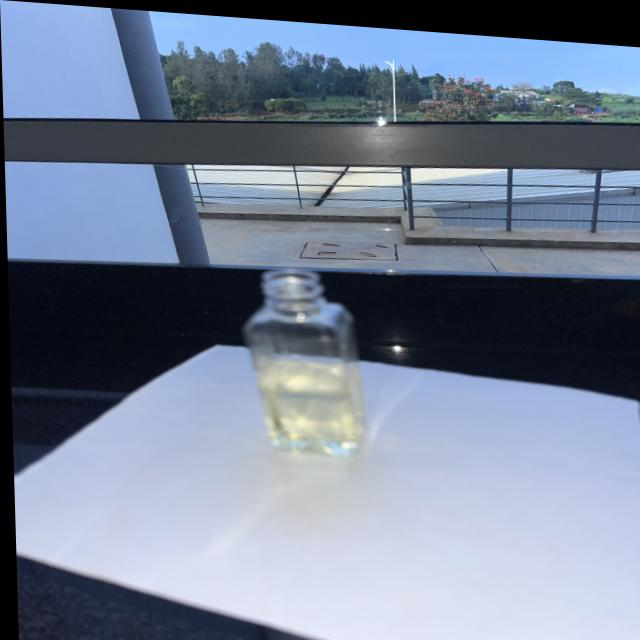oil: (255, 357, 359, 447)
